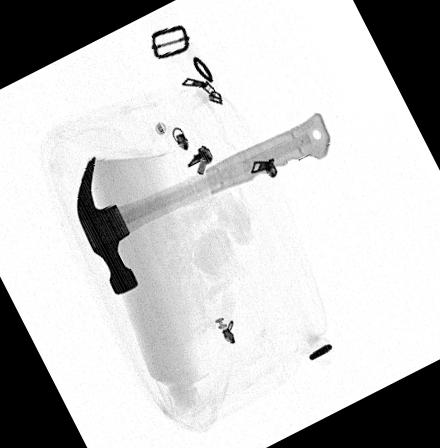Hammer: (75, 112, 330, 297)
